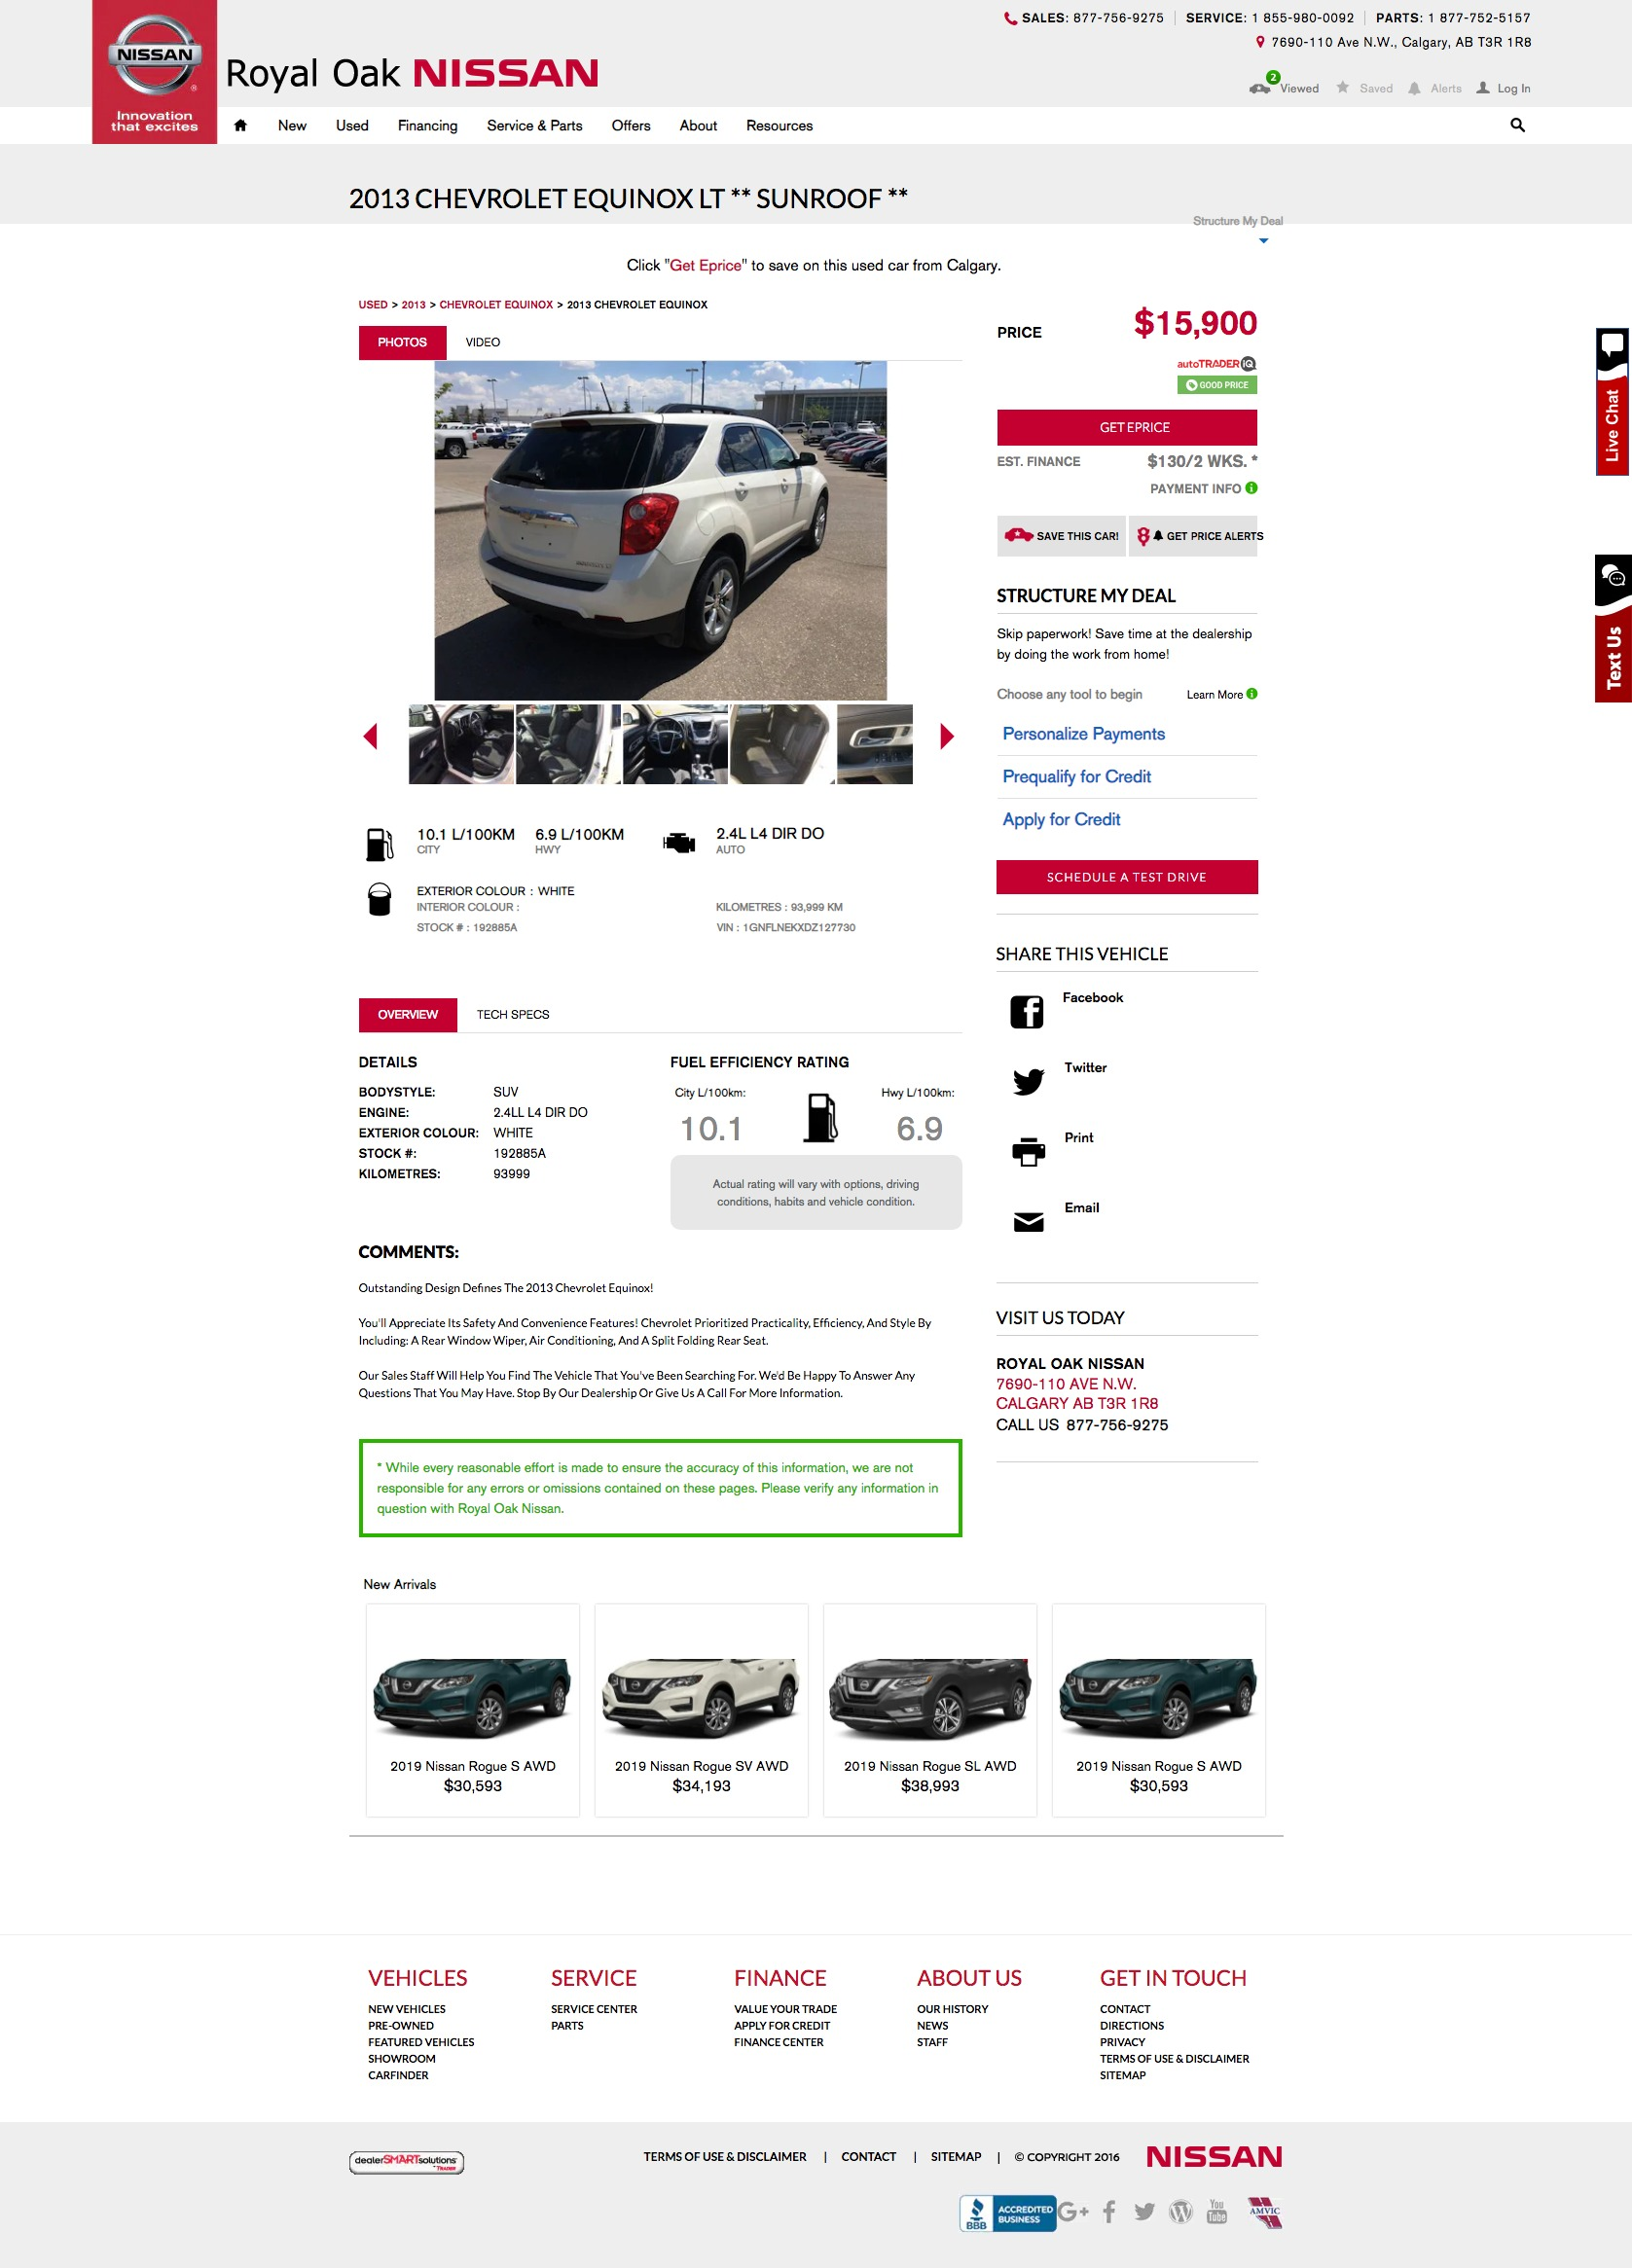car: (940, 724, 956, 752)
